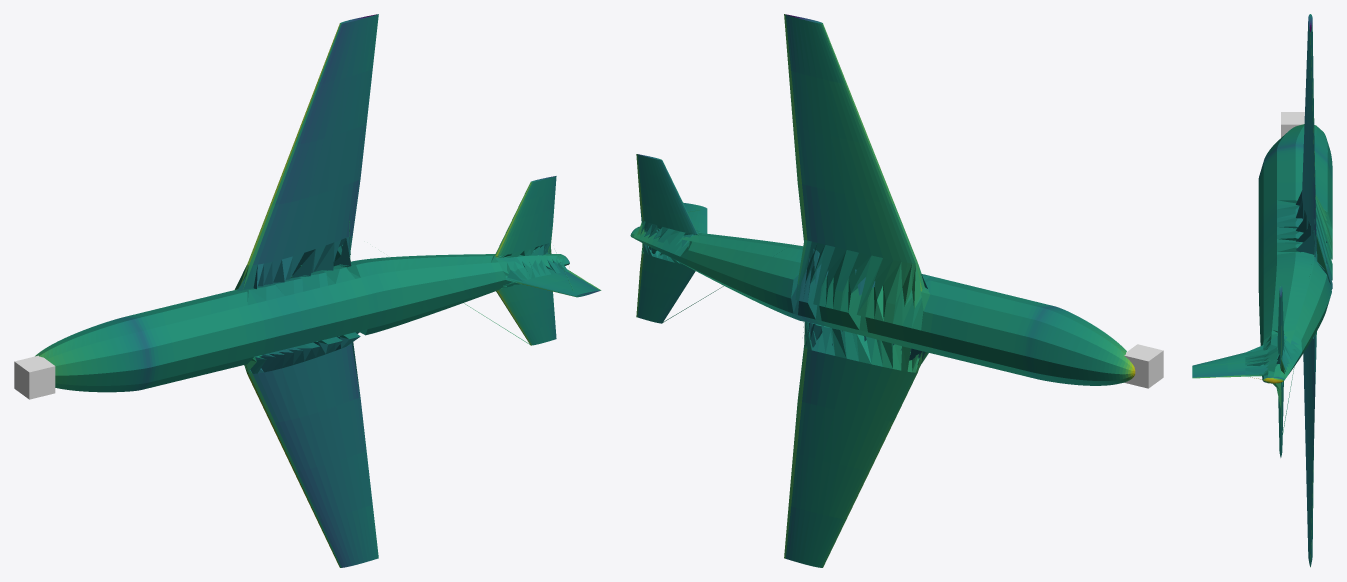
Rendered from 1deg.glb.
The picture shows the model from 3 angles, left to right: view 1: azimuth 30°, elevation 25°; view 2: azimuth 150°, elevation 25°; view 3: azimuth 270°, elevation 25°; orthographic projection.
Parts seen in each view (by area): view 1: Shape_IndexedFaceSet, Cube; view 2: Shape_IndexedFaceSet, Cube; view 3: Shape_IndexedFaceSet, Cube.
Boxes of the visible parts, x1,y1,x2,y2 form: Shape_IndexedFaceSet: (35,14,601,567); Cube: (14,355,55,399); Shape_IndexedFaceSet: (630,14,1135,567); Cube: (1124,344,1163,388); Shape_IndexedFaceSet: (1192,14,1332,567); Cube: (1281,112,1304,137).
Bounding box in the file's own units: 41 × 40 × 9.5.
